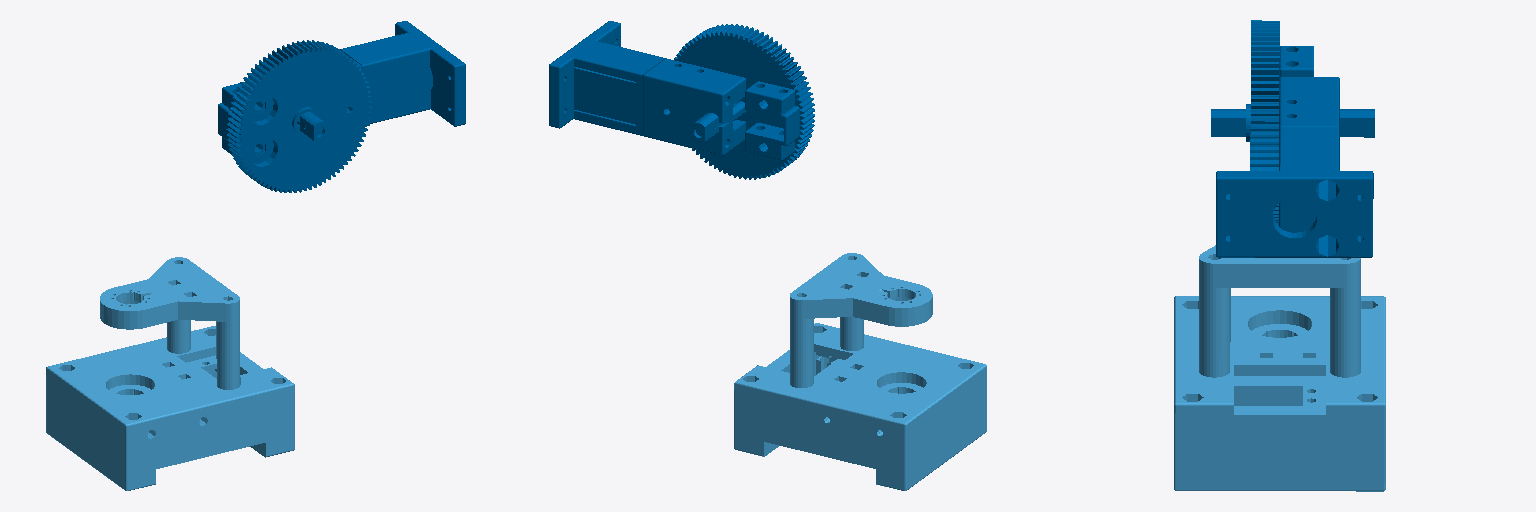
The robot description file, URDF, robot "visual":
<?xml version="1.0"?>

<robot name="visual">


  <link name="base_link">
  <origin xyz="100 0 0 " rpy=" 0 0 0"/>
    <visual>
      <geometry>
         <cylinder length="0.01" radius="0.01"/>
      </geometry>
      <material name="yellow">
         <color rgba="1 1 0 1"/>
      </material>
    </visual>
  </link>

  <joint name="BaseToBottom" type="fixed">
    <origin xyz="0 0 0" rpy=" -1.57 3.14 0"/>
    <parent link="base_link"/>
    <child link="bottom"/>
    <limit effort="1.0" lower="0" upper="6" velocity="1.0"/>
    <axis xyz = "0 1 0"/>
  </joint>

  <link name="bottom">
  <origin xyz="0 0 0 " rpy=" 0 0 0"/>
    <visual>
      <geometry>
      <mesh filename="package://arm_3001/meshes/BaseAssy.stl" scale="0.05 0.05 0.05"/>
      </geometry>
      <material name="blue"/>
    </visual>
  </link>

  <joint name="Bottomtolink0" type="revolute">
    <origin xyz="0 10 0" rpy="0 3.14 0"/>
    <parent link="bottom"/>
    <child link="link0"/>
    <limit effort="1.0" lower="-2" upper="2" velocity="1.0"/>
    <axis xyz = "0 1 0"/>
  </joint>

  <link name="link0">
  <origin xyz="0 0 0 " rpy=" 0 0 0"/>
    <visual>
      <geometry>
      <mesh filename="package://arm_3001/meshes/Link0.stl" scale="0.05 0.05 0.05"/>
      </geometry>
      <material name="blue"/>
    </visual>
  </link>

  <joint name="link0tolink1" type="revolute">
    <origin xyz="-80 180 0" rpy="0 1.57 0"/>
    <parent link="link0"/>
    <child link="link1"/>
    <limit effort="1.0" lower="-2" upper="2" velocity="1.0"/>
    <axis xyz = "1 0 0"/>
  </joint>

  <link name="link1">
  <origin xyz="0 0 0 " rpy=" 0 0 0"/>
    <visual>
      <geometry>
      <mesh filename="package://arm_3001/meshes/Link1.stl" scale="0.05 0.05 0.05"/>
      </geometry>
      <material name="blue"/>
    </visual>
  </link>

  <joint name="link1tolink2" type="revolute">
    <origin xyz="0 0 220" rpy="0 0 0"/>
    <parent link="link1"/>
    <child link="link2"/>
    <limit effort="1.0" lower="-2" upper="2" velocity="1.0"/>
    <axis xyz = "1 0 0"/>
  </joint>

  <link name="link2">
  <origin xyz="0 0 0 " rpy=" 0 0 0"/>
    <visual>
      <geometry>
      <mesh filename="package://arm_3001/meshes/Link2.stl" scale="0.05 0.05 0.05"/>
      </geometry>
      <material name="blue"/>
    </visual>
  </link>


</robot>

--- What the picture shows (computed from the rendered views, not written in the file) ---
Views: 3 orthographic renders of the robot side by side, from view 1: azimuth 30°, elevation 25°; view 2: azimuth 150°, elevation 25°; view 3: azimuth 270°, elevation 25°.
Robot: visual — 5 links, 4 joints (3 revolute, 1 fixed); root link base_link; default pose: every joint at zero.
Visible links, largest first — view 1: bottom, link2; view 2: bottom, link2; view 3: bottom, link2.
Link boxes in pixels (bbox=[...]): bottom: bbox=[46, 257, 294, 490]; link2: bbox=[218, 21, 465, 192]; bottom: bbox=[734, 253, 986, 490]; link2: bbox=[549, 21, 814, 179]; bottom: bbox=[1174, 245, 1385, 491]; link2: bbox=[1211, 20, 1374, 257].
Size in the robot's own frame: 305 by 119 by 303 metres.
Meshes: 4 distinct files referenced, 2 mesh visuals loaded (2 binary STL); not drawn: 2 (reference not matched to a file when rendering).